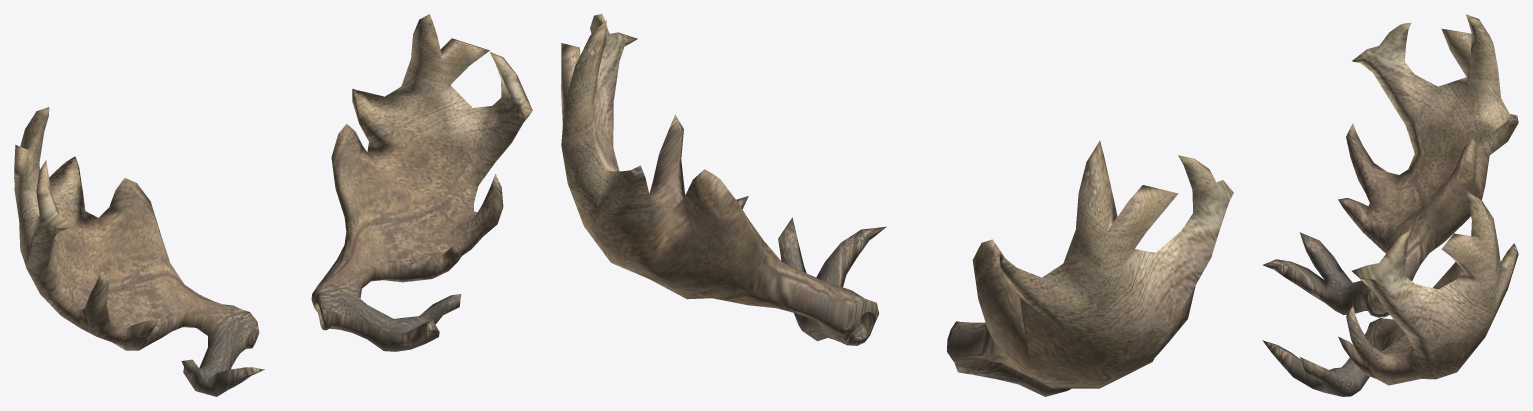
File: mooseantlers.glb
3 views of the same model, side by side, from view 1: azimuth 30°, elevation 25°; view 2: azimuth 150°, elevation 25°; view 3: azimuth 270°, elevation 25° (orthographic). The views are drawn at different scales.
Parts seen in each view (by area): view 1: mooseantlers; view 2: mooseantlers; view 3: mooseantlers.
Part boxes in pixels (box(x1,y1,x2,y2)): mooseantlers: box(14, 14, 532, 396); mooseantlers: box(561, 14, 1233, 396); mooseantlers: box(1262, 14, 1518, 396).
Bounding box in the file's own units: 0.7231 × 0.3773 × 0.3458.
1 material, 1 textured.
